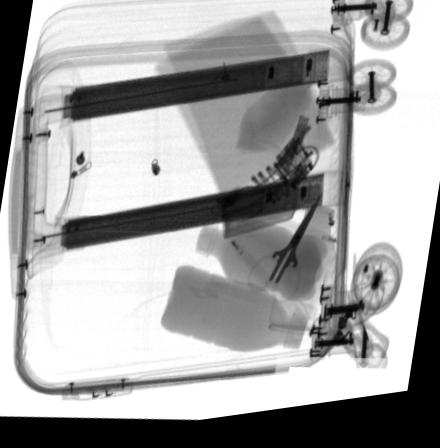Scissors: (245, 200, 323, 315)
